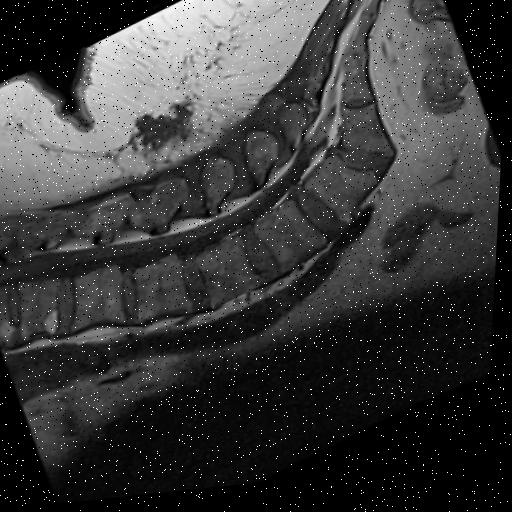L1: (75, 267, 129, 331)
L2: (135, 258, 195, 323)
L3: (199, 239, 263, 313)
L4: (256, 205, 330, 278)
L5: (306, 161, 380, 231)
S1: (342, 107, 395, 163)
